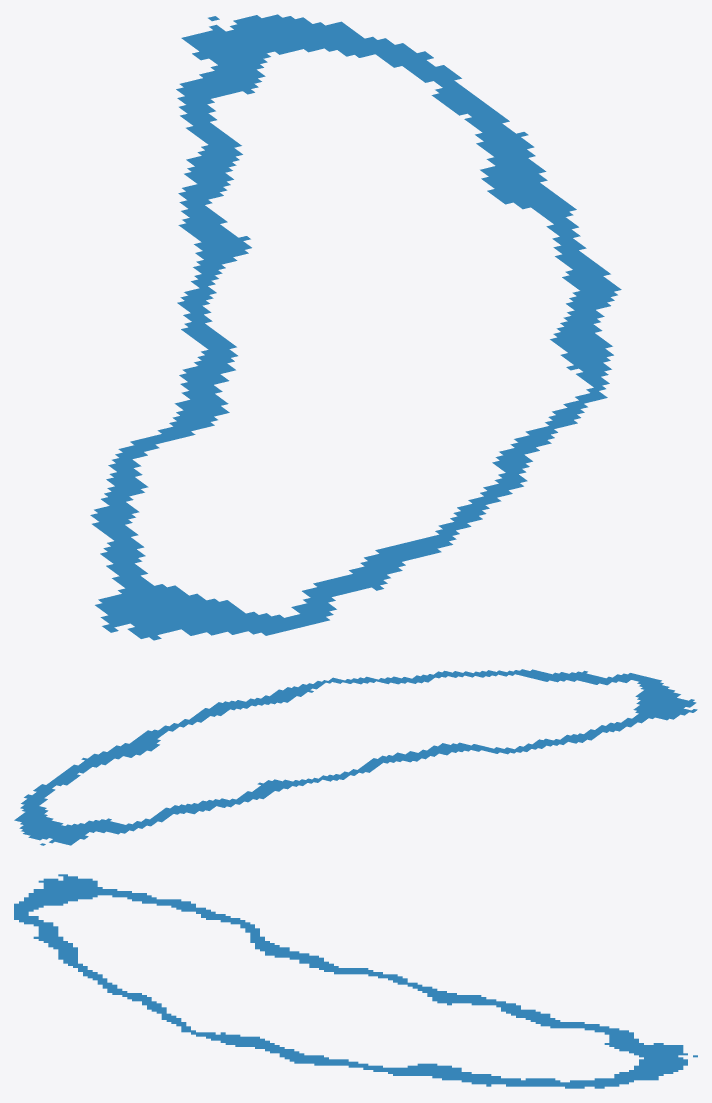
The model's file is Isl-long6-PlaceForWaterObjects.fbx.
The picture shows the model from 3 angles, top to bottom: view 1: azimuth 30°, elevation 25°; view 2: azimuth 150°, elevation 25°; view 3: azimuth 270°, elevation 25°; orthographic projection. The views are drawn at different scales.
Visible parts, largest first — view 1: Isl-long6-PlaceForWaterObjects; view 2: Isl-long6-PlaceForWaterObjects; view 3: Isl-long6-PlaceForWaterObjects.
Boxes of the visible parts, x1,y1,x2,y2 form: Isl-long6-PlaceForWaterObjects: (90, 14, 621, 640); Isl-long6-PlaceForWaterObjects: (14, 669, 697, 845); Isl-long6-PlaceForWaterObjects: (14, 874, 697, 1088).
Size of the model in its own units: 103 by 0 by 139.
